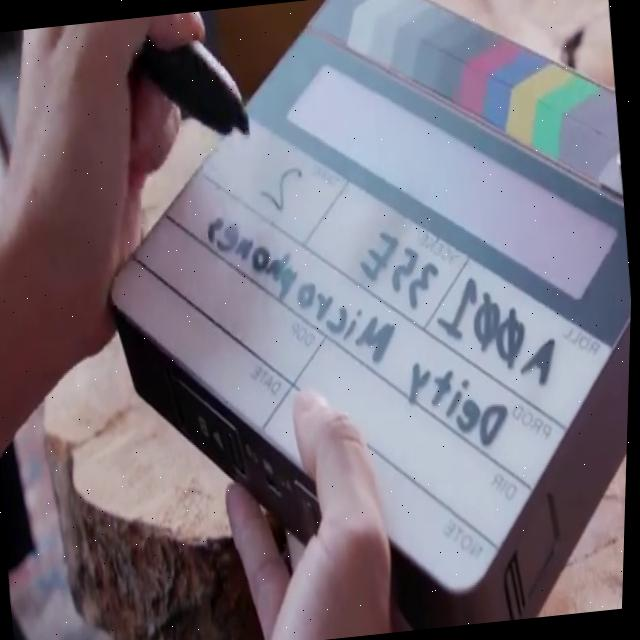Clapperboard: (107, 0, 631, 628)
